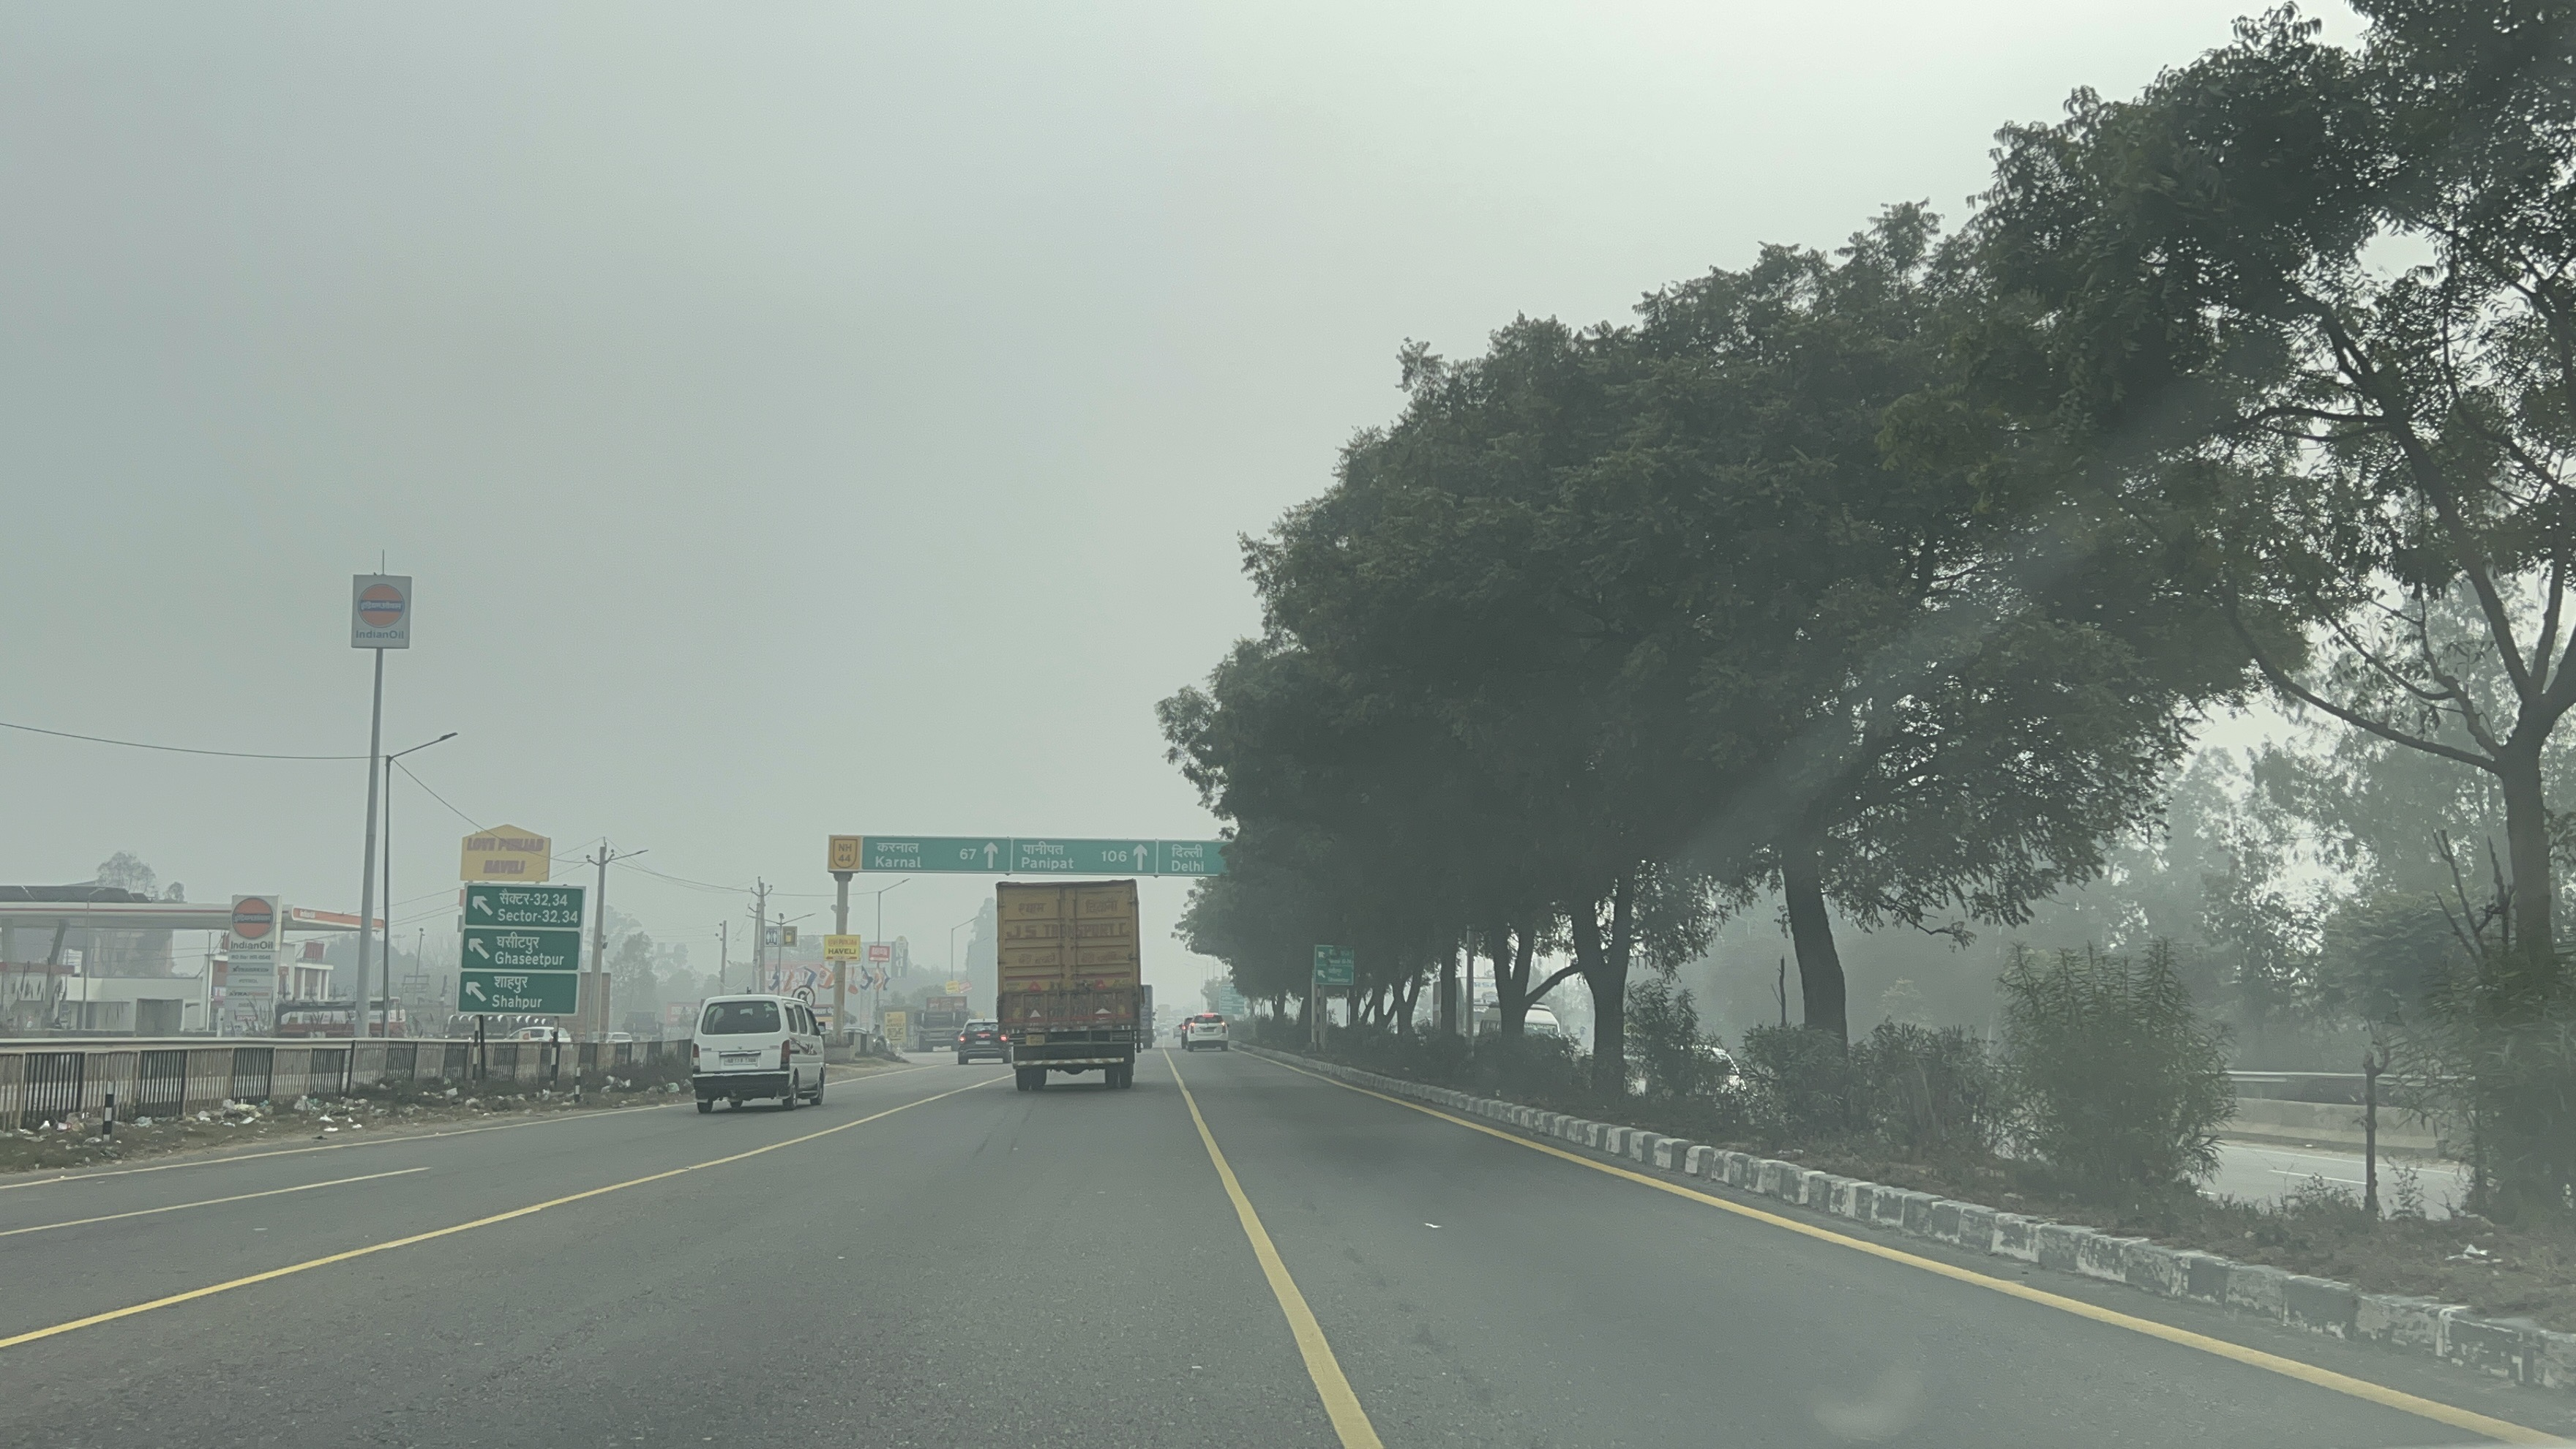General: (824, 828, 867, 879)
Informatory: (863, 828, 1233, 879), (460, 876, 584, 1023), (1307, 931, 1368, 998)
Mandatory: (787, 977, 821, 1010)
